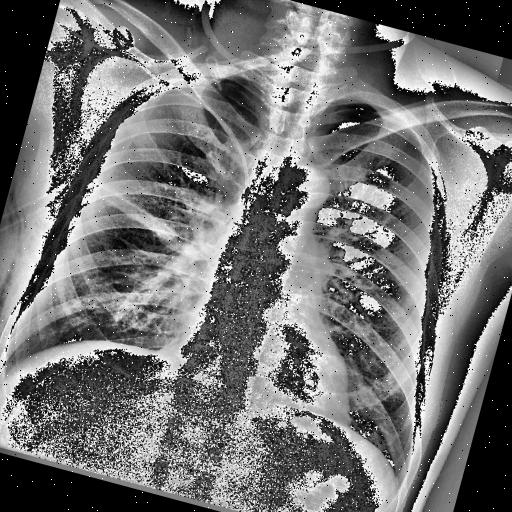0- Aortic enlargement: (268, 156, 336, 224), (271, 159, 333, 217)
7- Lung Opacity: (76, 177, 182, 239)
9- Other lesion: (0, 170, 49, 334), (0, 172, 44, 330), (0, 197, 40, 333)
